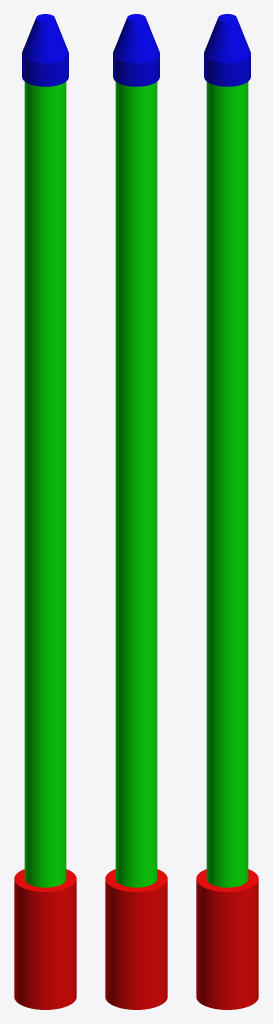
Rendered from Power Pole.fbx.
3 renders of one model, left to right at view 1: azimuth 90°, elevation 25°; view 2: azimuth 150°, elevation 25°; view 3: azimuth 270°, elevation 25°, orthographic.
Parts seen in each view (by area): view 1: Cylinder.001, Cylinder, Cylinder.002; view 2: Cylinder.001, Cylinder, Cylinder.002; view 3: Cylinder.001, Cylinder, Cylinder.002.
Boxes of the visible parts, left/top/right/bottom form: Cylinder.001: left=24, top=82, right=66, bottom=887; Cylinder: left=14, top=869, right=76, bottom=1009; Cylinder.002: left=22, top=14, right=68, bottom=86; Cylinder.001: left=115, top=82, right=157, bottom=887; Cylinder: left=105, top=869, right=167, bottom=1009; Cylinder.002: left=113, top=14, right=159, bottom=86; Cylinder.001: left=206, top=82, right=248, bottom=887; Cylinder: left=196, top=869, right=258, bottom=1009; Cylinder.002: left=204, top=14, right=250, bottom=86.
Size of the model in its own units: 24 by 415 by 24.
